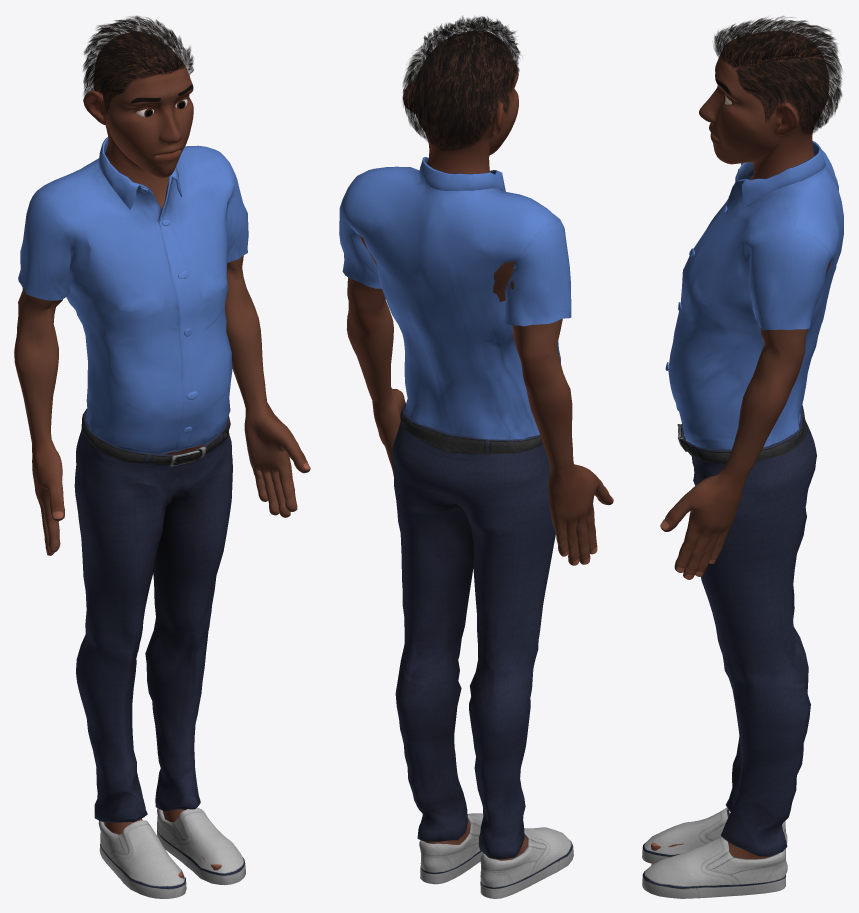
Rendered from passerby.glb.
The picture shows the model from 3 angles, left to right: view 1: azimuth 30°, elevation 25°; view 2: azimuth 150°, elevation 25°; view 3: azimuth 270°, elevation 25°; orthographic projection. The views are drawn at different scales.
Visible parts, largest first — view 1: Open_collar_short_sleeves_shirt_0_, Slacks_1_, CC_Base_Body, Canvas_shoes, Short_blowback; view 2: Slacks_1_, Open_collar_short_sleeves_shirt_0_, CC_Base_Body, Short_blowback, Canvas_shoes; view 3: Open_collar_short_sleeves_shirt_0_, Slacks_1_, CC_Base_Body, Short_blowback, Canvas_shoes.
Part boxes in pixels (bbox=[...]): Open_collar_short_sleeves_shirt_0_: bbox=[18, 137, 248, 454]; Slacks_1_: bbox=[74, 408, 232, 822]; CC_Base_Body: bbox=[14, 31, 310, 878]; Canvas_shoes: bbox=[98, 808, 245, 898]; Short_blowback: bbox=[83, 16, 193, 114]; Slacks_1_: bbox=[392, 403, 555, 859]; Open_collar_short_sleeves_shirt_0_: bbox=[339, 157, 571, 439]; CC_Base_Body: bbox=[346, 31, 613, 860]; Short_blowback: bbox=[402, 16, 520, 150]; Canvas_shoes: bbox=[419, 813, 573, 898]; Open_collar_short_sleeves_shirt_0_: bbox=[665, 141, 843, 449]; Slacks_1_: bbox=[677, 405, 816, 856]; CC_Base_Body: bbox=[651, 30, 830, 865]; Short_blowback: bbox=[713, 16, 842, 134]; Canvas_shoes: bbox=[642, 807, 787, 898].
Size of the model in its own units: 0.5092 by 1.72 by 0.3714.
Materials: 18 (18 with a texture image).
